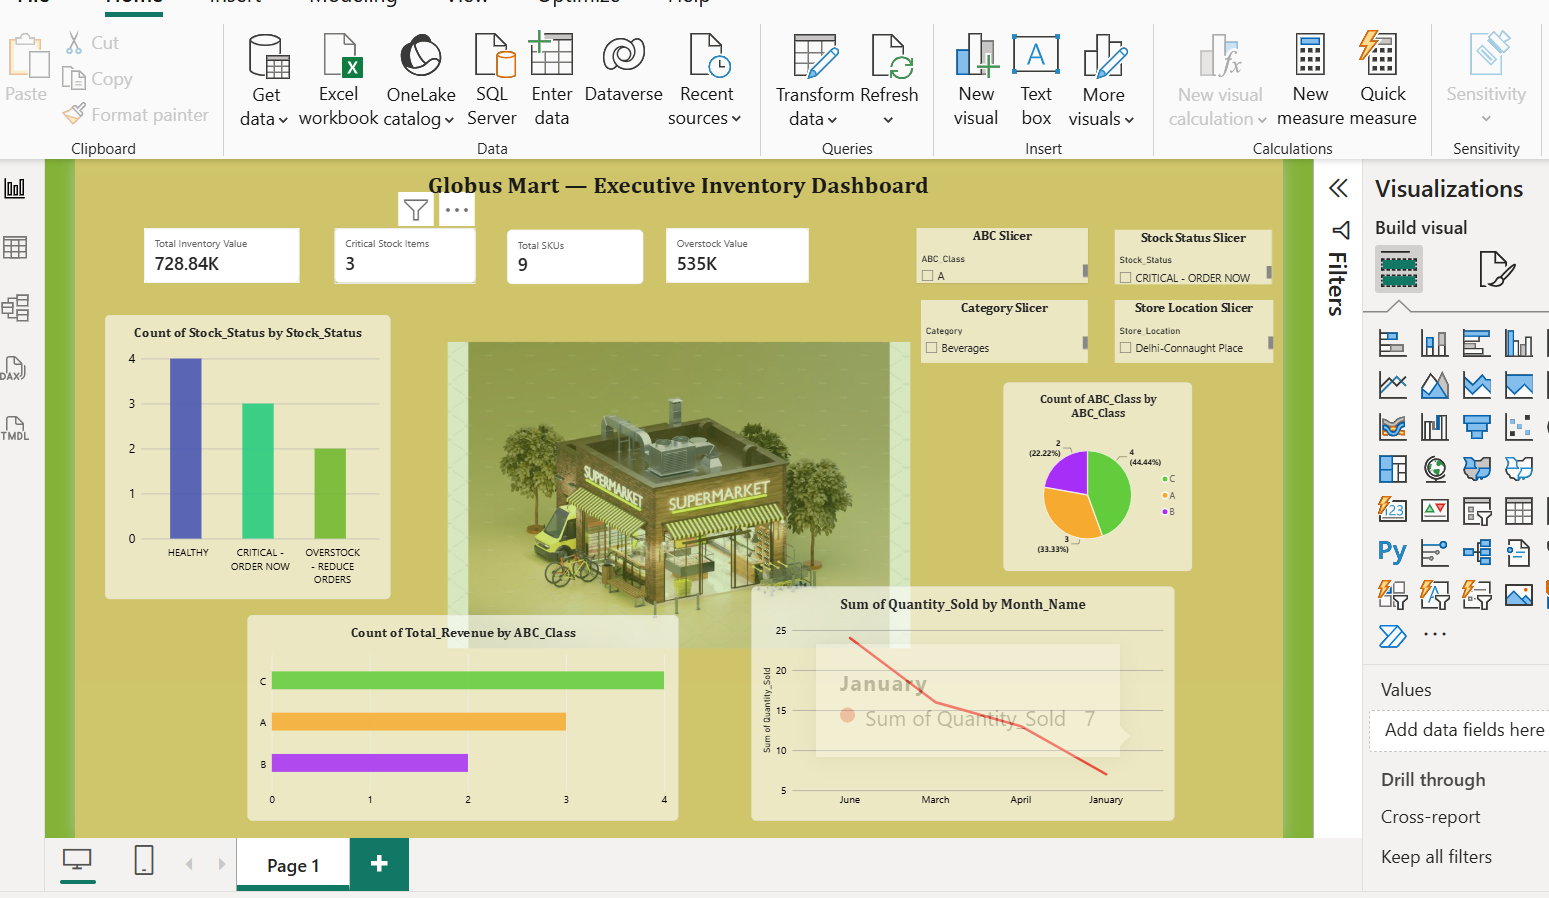

The dashboard page shown, as its layout file describes it:
{"tool":"powerbi","page":{"name":"Page 1","canvas":[1920,1080],"ordinal":0},"visuals":[{"type":"clusteredBarChart","fields":{"Y":["CountNonNull(Inventory_Table.Total_Revenue)"],"Category":["Inventory_Table.ABC_Class"]},"box":[275,725,685,327.5],"z":0},{"type":"pieChart","fields":{"Category":["Inventory_Table.ABC_Class"],"Y":["CountNonNull(Inventory_Table.ABC_Class)"]},"box":[1477.5,355,300,300],"z":1000},{"type":"columnChart","fields":{"Category":["Inventory_Table.Stock_Status"],"Y":["CountNonNull(Inventory_Table.Stock_Status)"]},"box":[47.5,247.5,454,452],"z":2000},{"type":"cardVisual","fields":{"Data":["Inventory_Table.Total Inventory Value"]},"box":[110,110,247.5,87.5],"z":3000},{"type":"cardVisual","fields":{"Data":["Inventory_Table.Critical Stock Items"]},"box":[412.5,110,225,87.5],"z":4000},{"type":"cardVisual","fields":{"Data":["Inventory_Table.Overstock Value"]},"box":[940,110,227.5,87.5],"z":5000},{"type":"cardVisual","fields":{"Data":["Inventory_Table.Total SKUs"]},"box":[687.5,112.5,217.5,87.5],"z":6000},{"type":"lineChart","fields":{"Category":["date_key.Month_Name"],"Y":["Sum(Sales_Log.Quantity_Sold)"]},"box":[1075,680,672.5,372.5],"z":7000},{"type":"slicer","title":"Store Location Slicer","fields":{"Values":["Sales_Log.Store_Location"]},"box":[1652.5,225,252.5,100],"z":8000},{"type":"slicer","title":"Category Slicer","fields":{"Values":["Inventory_Table.Category"]},"box":[1345,225,265,100],"z":9000},{"type":"slicer","title":"ABC Slicer","fields":{"Values":["Inventory_Table.ABC_Class"]},"box":[1337.5,110,272.5,87.5],"z":10000},{"type":"slicer","title":"Stock Status Slicer","fields":{"Values":["Inventory_Table.Stock_Status"]},"box":[1652.5,112.5,250,87.5],"z":11000},{"type":"textbox","box":[0,20,1920,50],"z":11001}]}

Visuals, with their boxes on the page's 1920x1080 design canvas (x1, y1, x2, y2). These are canvas units, not pixel positions in the 1549x898 screenshot, which may show the page scaled, cropped or inside an application window:
clusteredBarChart - CountNonNull(Inventory_Table.Total_Revenue) x Inventory_Table.ABC_Class: (275,725,960,1052)
pieChart - Inventory_Table.ABC_Class x CountNonNull(Inventory_Table.ABC_Class): (1478,355,1778,655)
columnChart - Inventory_Table.Stock_Status x CountNonNull(Inventory_Table.Stock_Status): (48,248,502,700)
cardVisual - Inventory_Table.Total Inventory Value: (110,110,358,198)
cardVisual - Inventory_Table.Critical Stock Items: (412,110,638,198)
cardVisual - Inventory_Table.Overstock Value: (940,110,1168,198)
cardVisual - Inventory_Table.Total SKUs: (688,112,905,200)
lineChart - date_key.Month_Name x Sum(Sales_Log.Quantity_Sold): (1075,680,1748,1052)
"Store Location Slicer" slicer: (1652,225,1905,325)
"Category Slicer" slicer: (1345,225,1610,325)
"ABC Slicer" slicer: (1338,110,1610,198)
"Stock Status Slicer" slicer: (1652,112,1902,200)
textbox: (0,20,1920,70)
